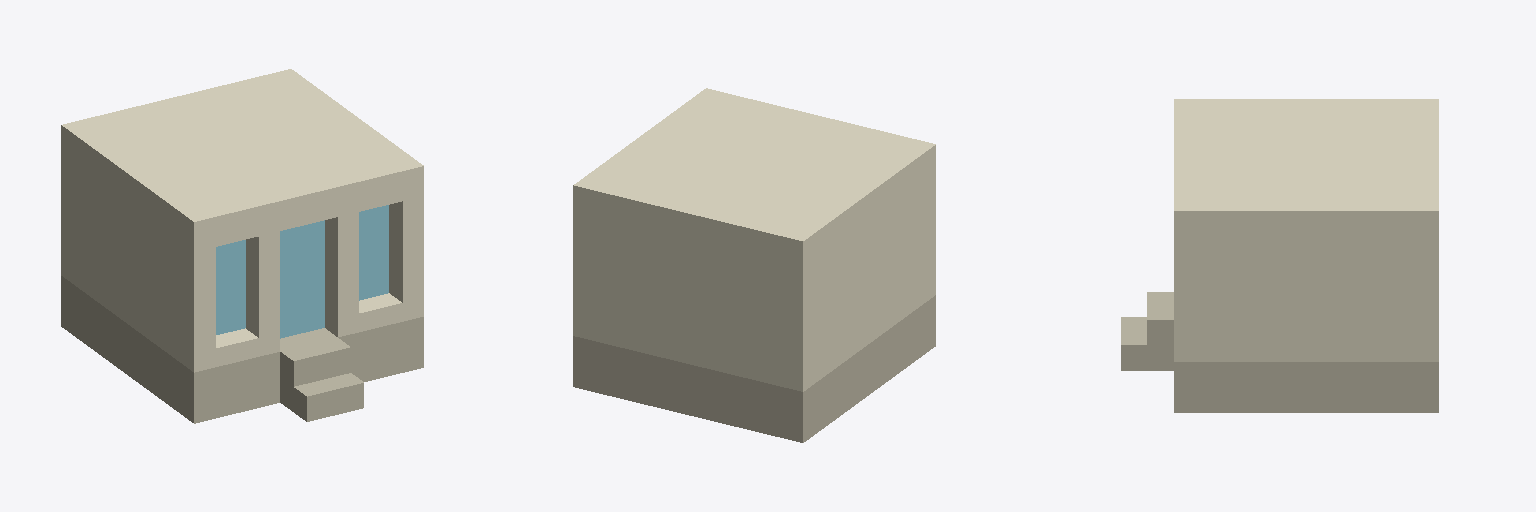
File: houseGround3.obj
The picture shows the model from 3 angles: view 1: azimuth 30°, elevation 25°; view 2: azimuth 150°, elevation 25°; view 3: azimuth 270°, elevation 25°; orthographic projection.
Visible parts, largest first — view 1: Mesh1_Group1_Model.009; view 2: Mesh1_Group1_Model.009; view 3: Mesh1_Group1_Model.009.
Part boxes in pixels (bbox=[...]): Mesh1_Group1_Model.009: bbox=[61, 69, 423, 423]; Mesh1_Group1_Model.009: bbox=[573, 88, 935, 442]; Mesh1_Group1_Model.009: bbox=[1121, 99, 1438, 412].
Size of the model in its own units: 1 by 0.8375 by 1.2.